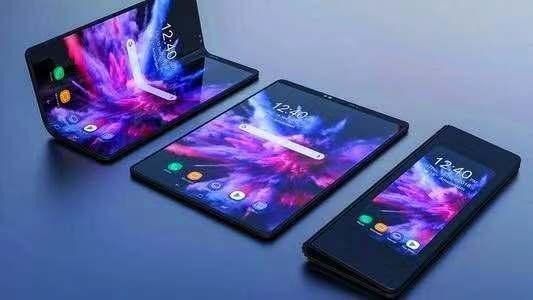phone: (36, 18, 239, 153), (156, 101, 410, 202), (323, 137, 499, 271)
